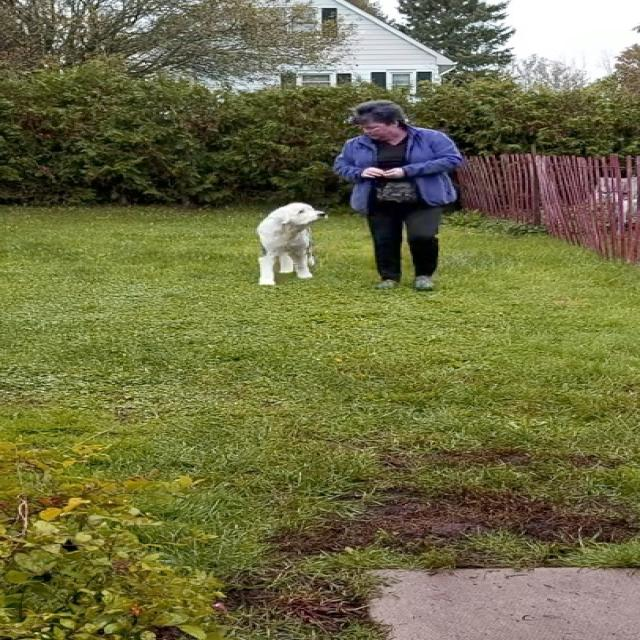Unleashed_Dog: (254, 202, 400, 286)
